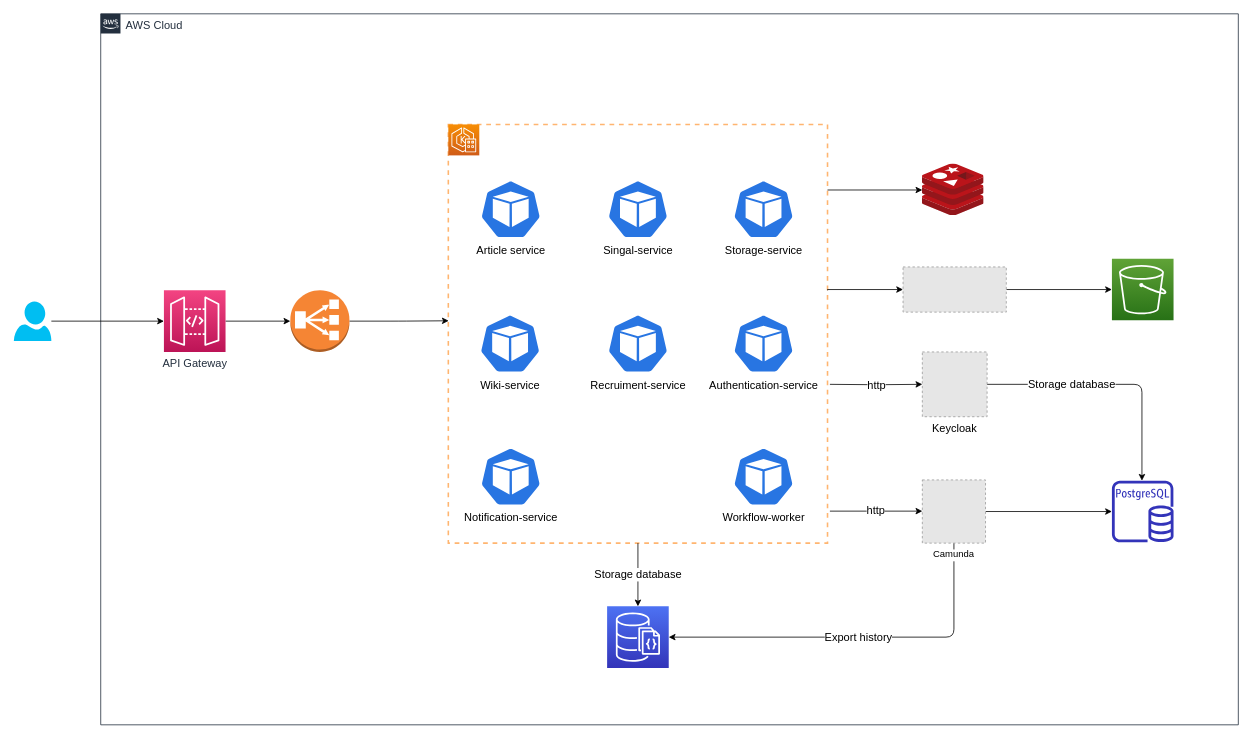
Image size: 1252x739. Some labels were removed from this diagram. Grey dashed boxes stand in for pictures. Here are the shapes that lost their labels. From the top down, the centre of each, then its label:
At pixel 463 139: "EKS Cluster".
At pixel 953 189: "Redis".
At pixel 1142 289: "S3".
At pixel 32 320: "User".
At pixel 319 321: "Load Balancer".
At pixel 637 637: "MongoDB".
